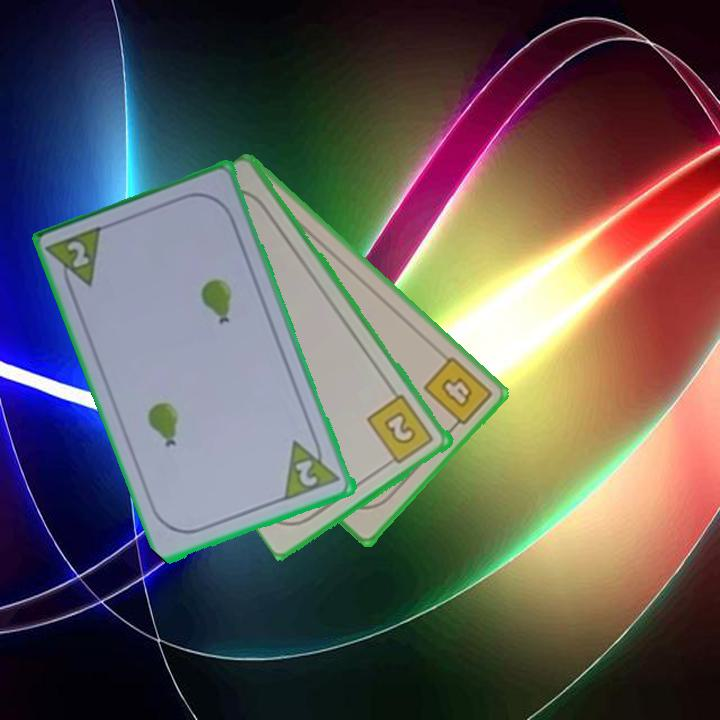2b: (364, 391, 437, 470)
2p: (45, 222, 108, 298), (281, 430, 344, 504)
4b: (420, 352, 496, 435)
